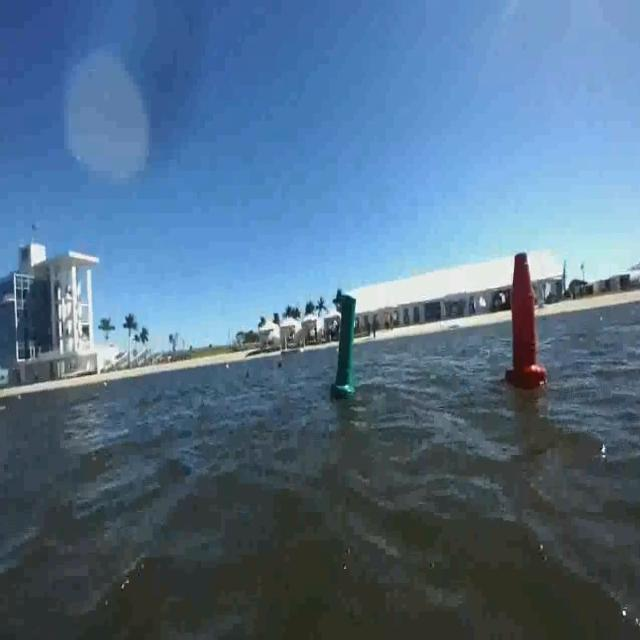green-column-buoy: (323, 263, 367, 426)
red-column-buoy: (507, 252, 548, 391)
